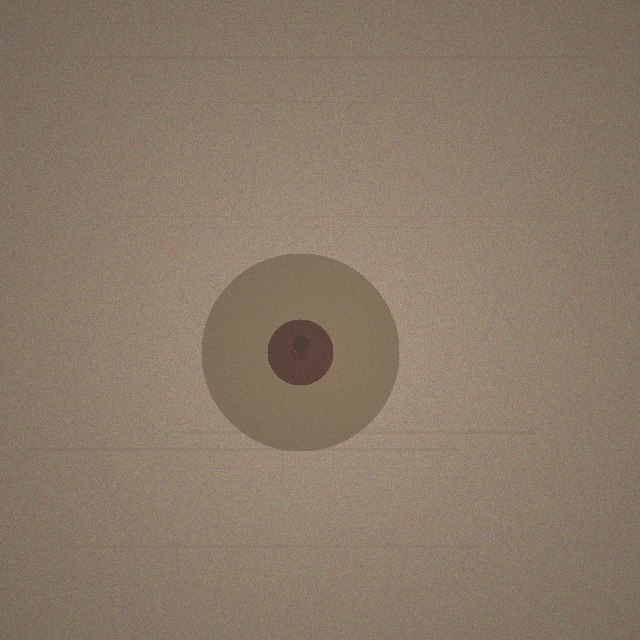cold_weld: (201, 253, 399, 451)
